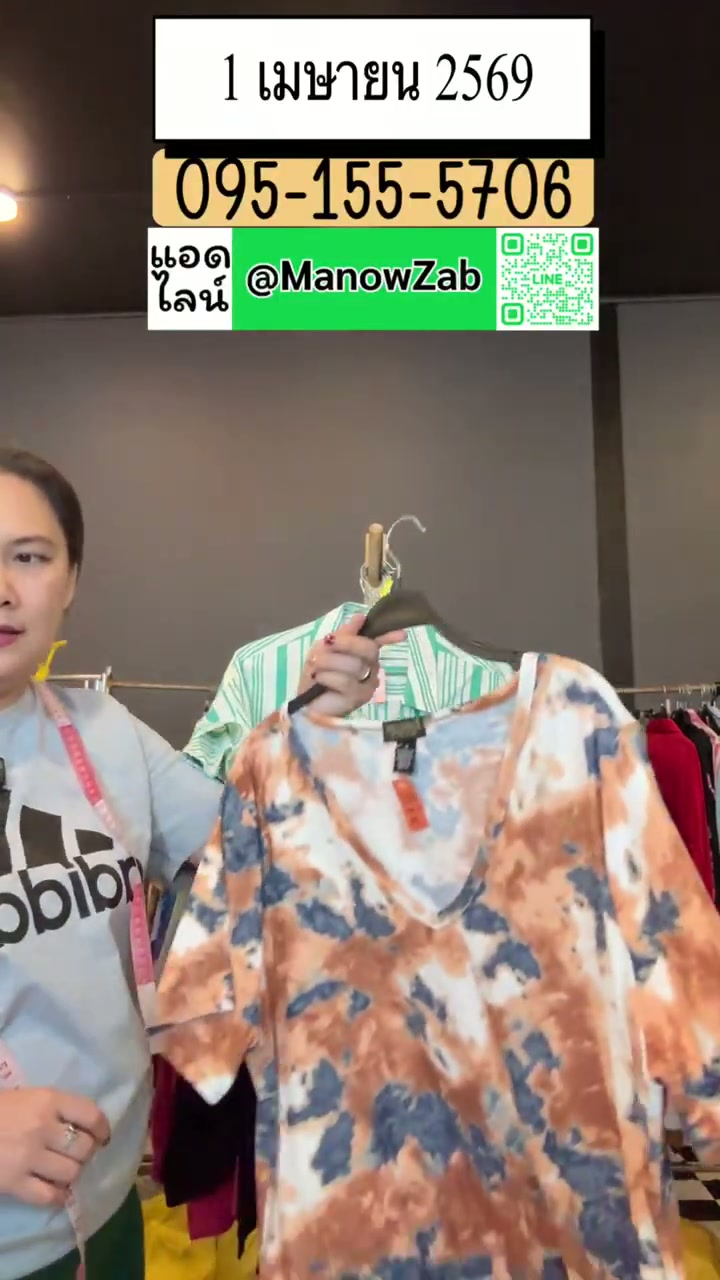display_shirt: (158, 654, 719, 1279)
